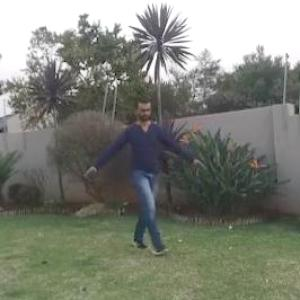land: (88, 96, 202, 240)
